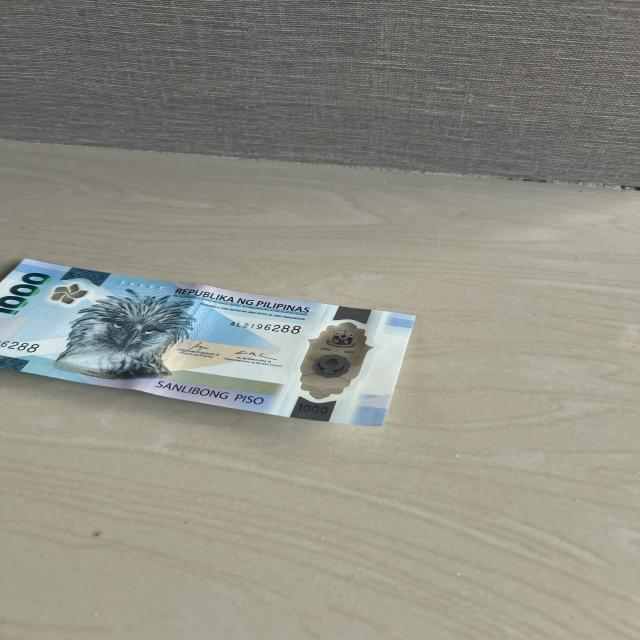clear_window: (303, 317, 374, 402)
eagle: (71, 291, 181, 377)
sampaguita: (53, 284, 83, 304)
